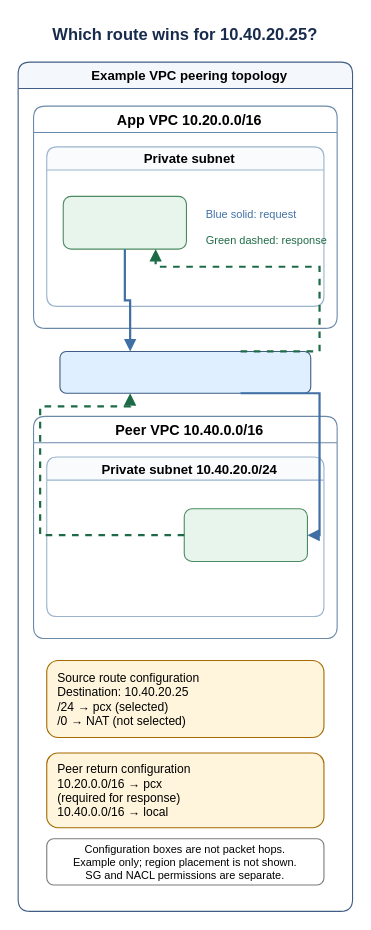
The diagram is 371 pixels wide and 930 high, and some of its shapes have lost their labels. Each missing label, with the centre of its shape:
"API target 10.40.20.25" goes at point (245, 535).
"EC2 source 10.20.1.10" goes at point (124, 222).
"VPC peering connection (pcx)" goes at point (185, 371).
